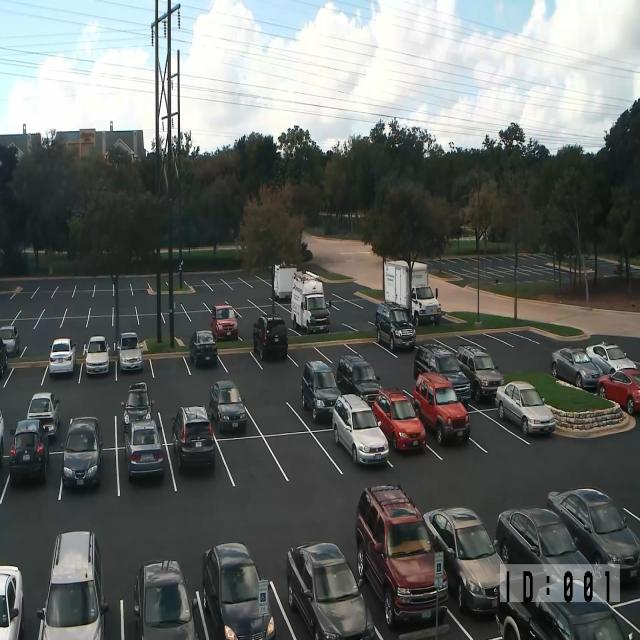car: (355, 484, 448, 628), (494, 506, 595, 604), (496, 574, 640, 640), (423, 506, 506, 616), (546, 487, 640, 583), (286, 540, 375, 640), (36, 530, 109, 639), (202, 542, 275, 640), (133, 559, 197, 639), (413, 372, 471, 446), (332, 393, 389, 466), (413, 342, 471, 410), (372, 388, 427, 452), (495, 381, 556, 436), (60, 416, 103, 490), (172, 405, 216, 472), (456, 344, 504, 403), (9, 418, 49, 483), (301, 360, 341, 423), (337, 353, 382, 408), (124, 418, 164, 479), (550, 346, 603, 391), (375, 302, 416, 352), (597, 368, 640, 415), (209, 380, 247, 432), (0, 564, 24, 640), (120, 381, 154, 433), (252, 314, 288, 361), (586, 342, 637, 374), (26, 392, 60, 439), (411, 283, 441, 327), (116, 331, 143, 372), (189, 330, 218, 368), (83, 336, 110, 375), (211, 303, 238, 342), (49, 338, 76, 375), (0, 324, 20, 356), (0, 336, 7, 378), (0, 408, 4, 467)
